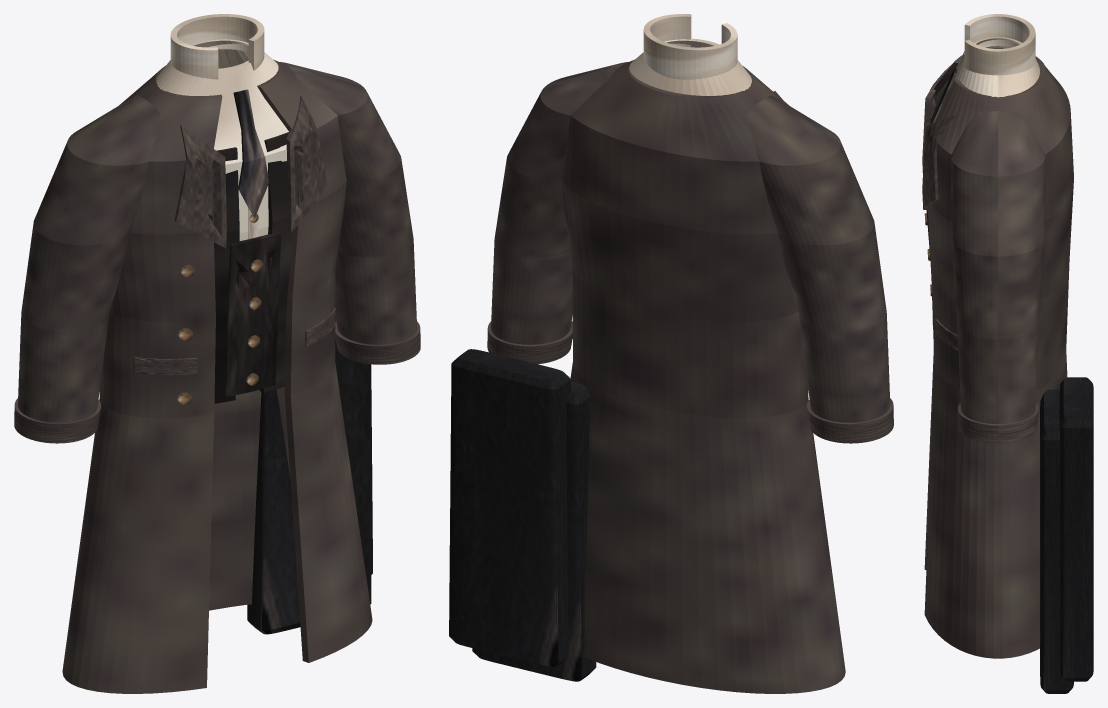
The picture shows the model from 3 angles, left to right: view 1: azimuth 30°, elevation 25°; view 2: azimuth 150°, elevation 25°; view 3: azimuth 270°, elevation 25°; orthographic projection. The views are drawn at different scales.
Visible parts, largest first — view 1: outer_coat, left_coat_sleeve, right_coat_sleeve, folded_trousers_0, waistcoat_front, shirt_body, waistcoat, shirt_collar, left_lapel, right_lapel, silk_tie, left_coat_cuff (+2 smaller); view 2: outer_coat, folded_trousers_1, left_coat_sleeve, right_coat_sleeve, folded_trousers_0, shirt_collar, shirt_body, left_coat_cuff, right_coat_cuff; view 3: outer_coat, right_coat_sleeve, folded_trousers_1, folded_trousers_0, shirt_collar, shirt_body, right_coat_cuff, right_lapel, left_lapel, right_pocket, silk_tie.
Part boxes in pixels (x1,y1,x2,y2): outer_coat: [62, 59, 372, 693]; left_coat_sleeve: [18, 95, 159, 422]; right_coat_sleeve: [280, 62, 416, 344]; folded_trousers_0: [247, 338, 371, 634]; waistcoat_front: [224, 232, 281, 396]; shirt_body: [156, 39, 288, 240]; waistcoat: [214, 132, 293, 403]; shirt_collar: [170, 14, 264, 79]; left_lapel: [174, 125, 226, 248]; right_lapel: [286, 96, 327, 232]; silk_tie: [233, 89, 269, 218]; left_coat_cuff: [14, 398, 101, 443]; outer_coat: [561, 59, 845, 693]; folded_trousers_1: [449, 349, 570, 666]; left_coat_sleeve: [747, 95, 890, 422]; right_coat_sleeve: [491, 62, 628, 344]; folded_trousers_0: [472, 381, 596, 681]; shirt_collar: [643, 14, 737, 79]; shirt_body: [629, 38, 751, 95]; left_coat_cuff: [807, 398, 893, 443]; right_coat_cuff: [487, 321, 572, 364]; outer_coat: [924, 48, 1073, 658]; right_coat_sleeve: [951, 111, 1045, 423]; folded_trousers_1: [1059, 377, 1093, 681]; folded_trousers_0: [1040, 389, 1073, 693]; shirt_collar: [964, 14, 1035, 75]; shirt_body: [954, 37, 1039, 97]; right_coat_cuff: [958, 403, 1038, 443]; right_lapel: [922, 115, 956, 209]; left_lapel: [922, 62, 953, 172]; right_pocket: [935, 319, 958, 350]; silk_tie: [930, 68, 956, 124].
Size of the model in its own units: 69.09 by 107 by 28.5.
Materials: 6 (6 with a texture image).
